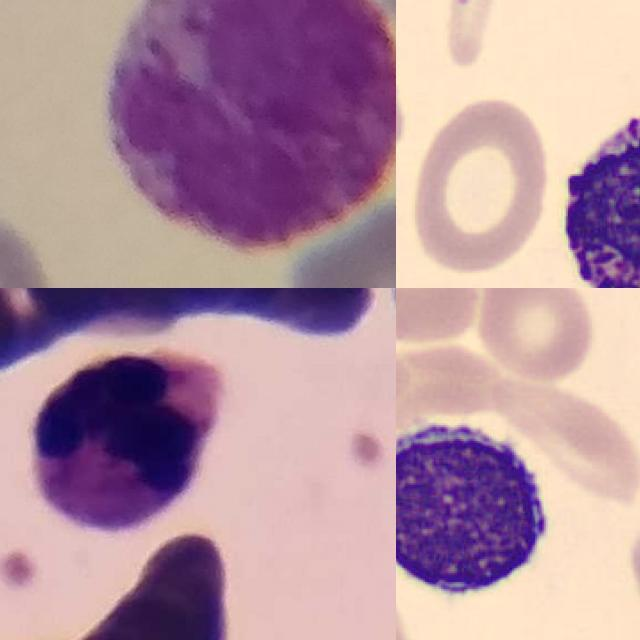Basophil: (107, 0, 396, 254), (543, 80, 640, 288)
Lymphocyte: (396, 403, 560, 617)
Neutrophil: (29, 348, 224, 533)
RBC: (405, 91, 556, 280), (490, 368, 640, 507), (471, 288, 597, 384), (396, 288, 487, 347), (396, 24, 411, 181)
